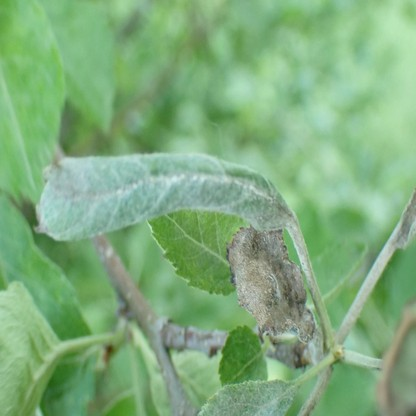powdery_mildew: (34, 152, 291, 236), (228, 229, 314, 344), (197, 377, 298, 416)
